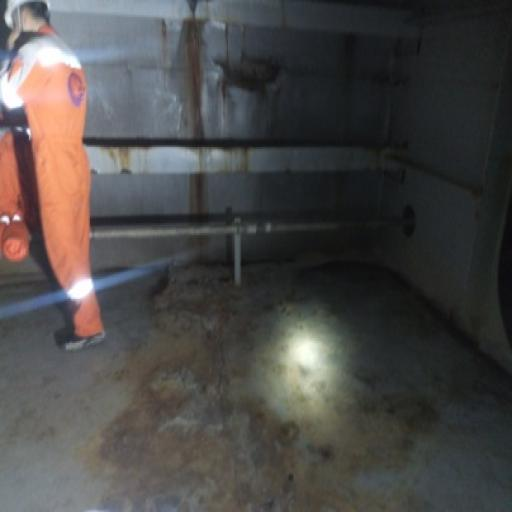Detect-rust-on-metal-surfaces: (82, 19, 484, 505)
